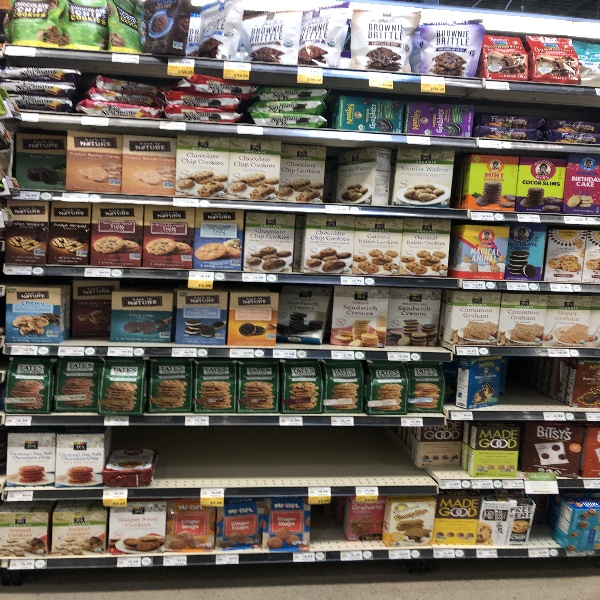void: (161, 429, 411, 483), (505, 357, 562, 410), (531, 498, 561, 546), (312, 501, 342, 549)
